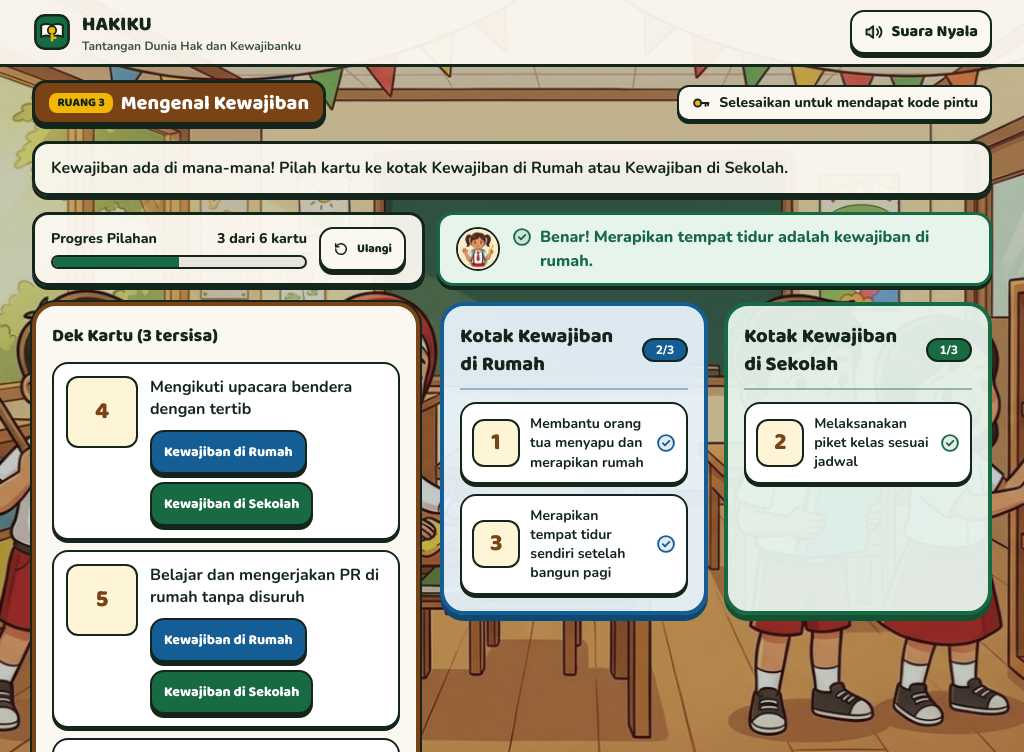
Test: Aplikasi HAKIKU hybrid › Ruang 3: sortir kartu dengan label kotak dari data, lalu kode pintu muncul
Earlier steps of the test are not shown.
Click the 1st button "Kewajiban di Sekolah".
click(232, 504)  # box [150,482,313,526]
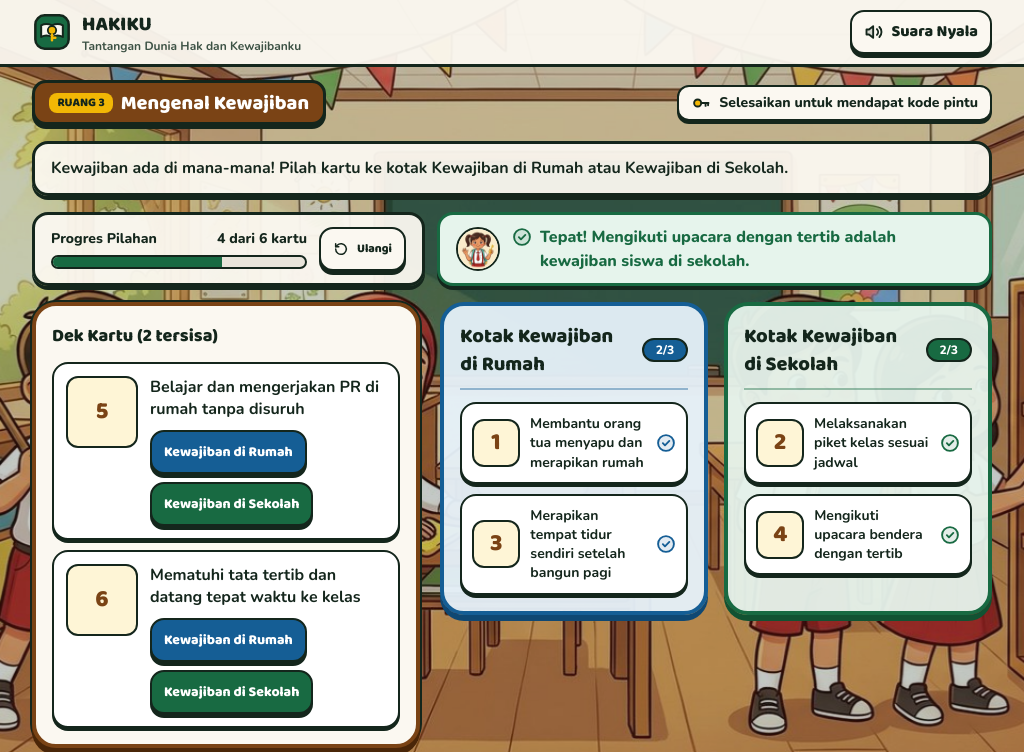
Click the 1st button "Kewajiban di Rumah".
click(228, 452)  # box [150,430,307,474]
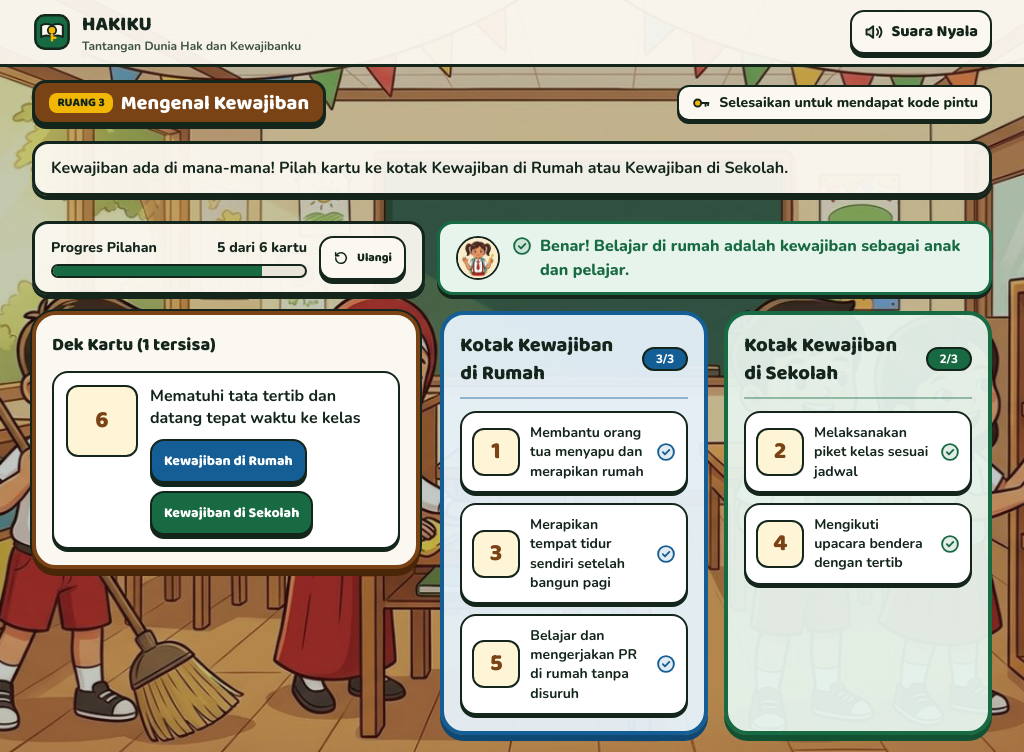
Click the button "Kewajiban di Sekolah".
click(232, 513)  # box [150,491,313,535]
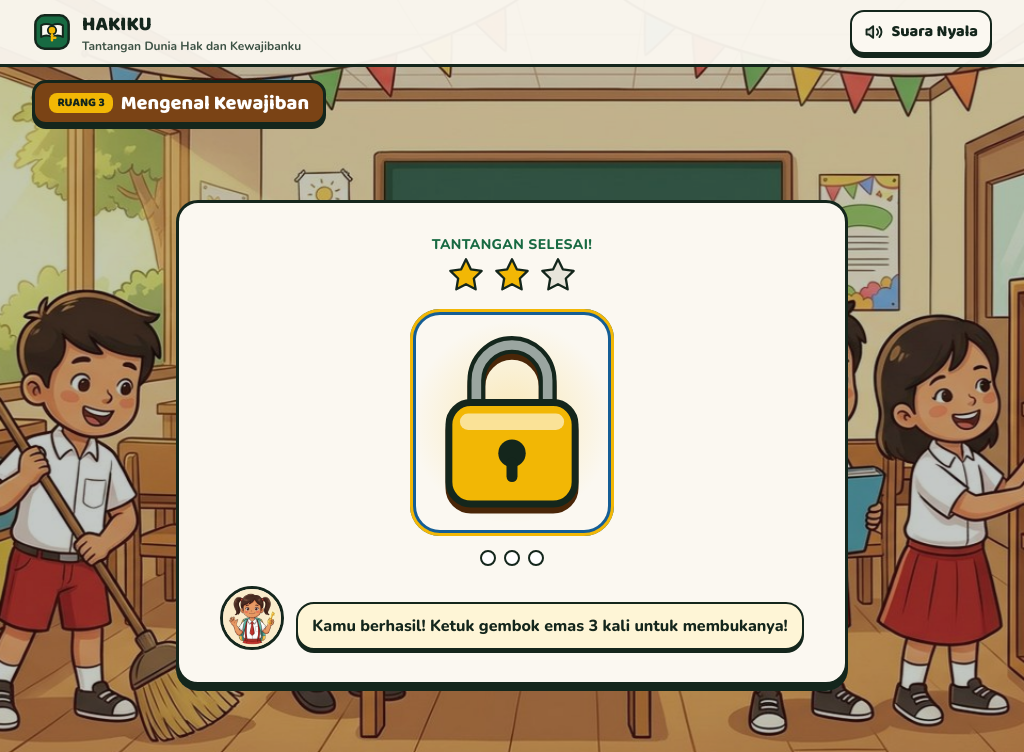
Click the button named "Buka gembok".
click(512, 423)  # box [416,315,608,530]
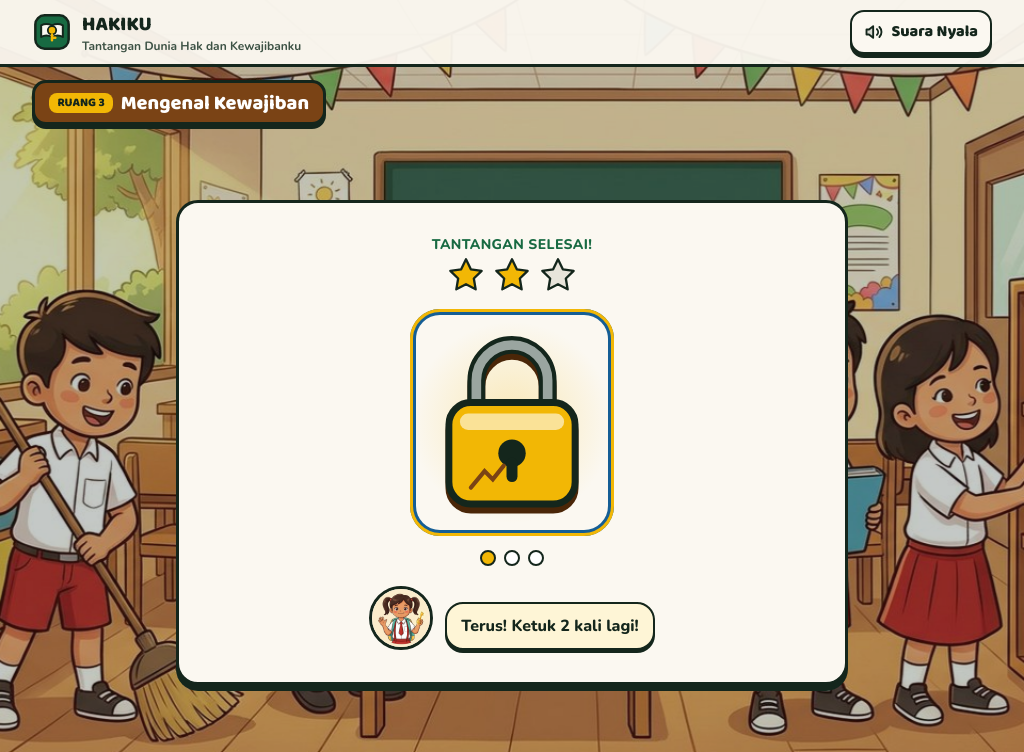
Click the button named "Buka gembok".
click(512, 423)  # box [416,315,608,530]
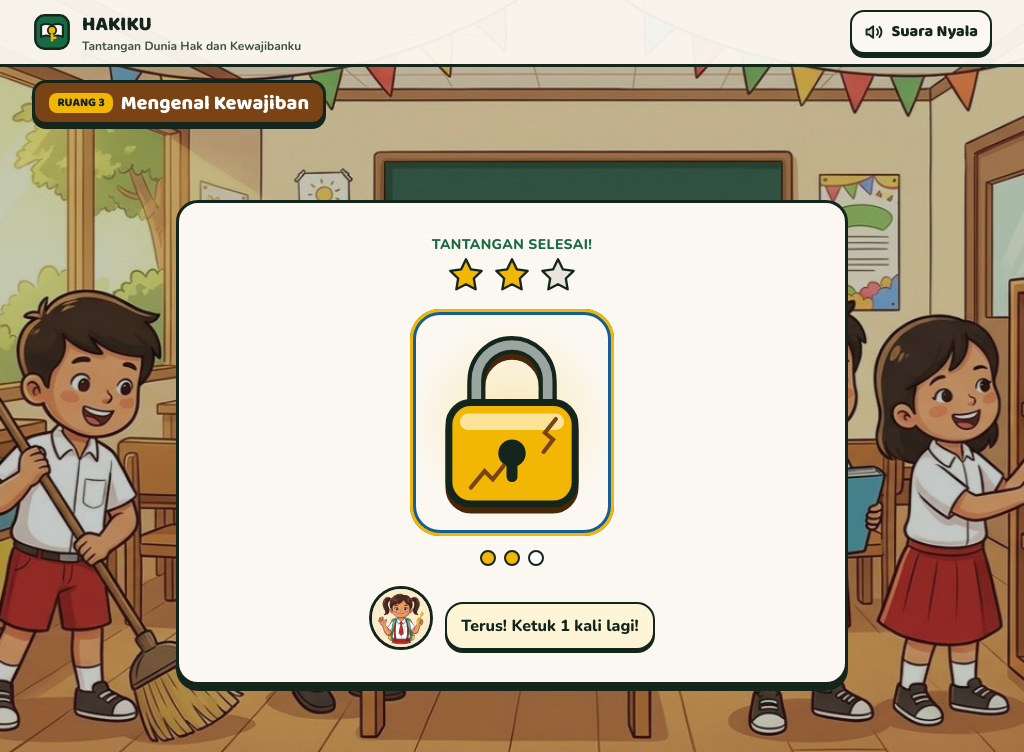
Click the button named "Buka gembok".
click(512, 423)  # box [416,315,608,530]
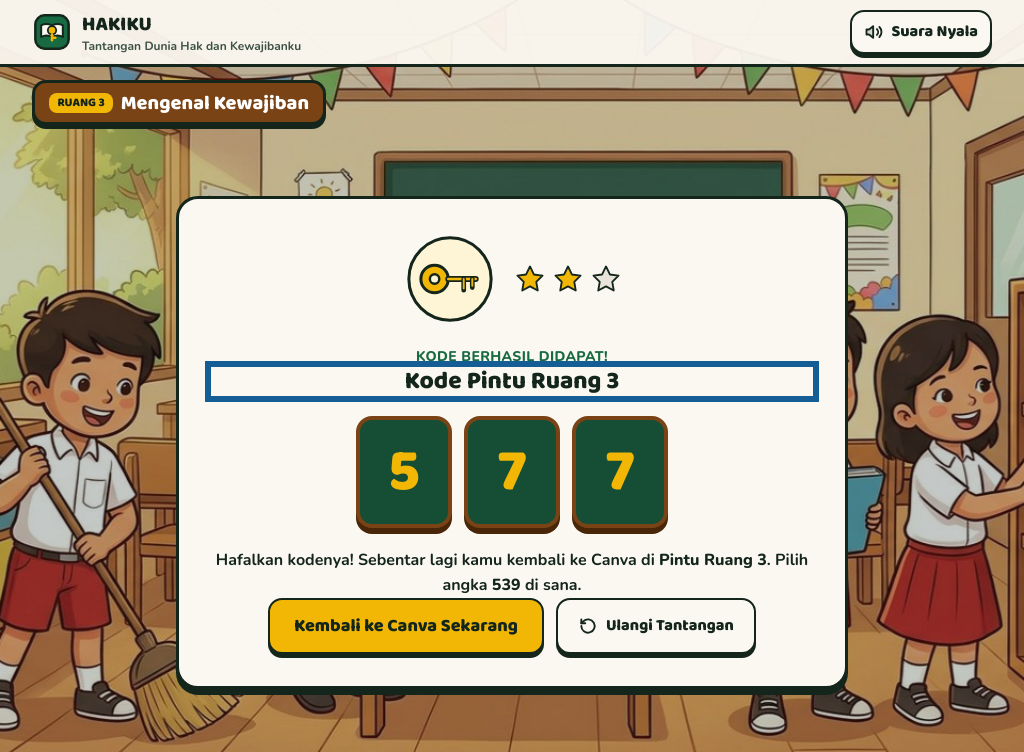
Expected: the heading "Kode Pintu Ruang 3" is shown, [211,367,813,396]
